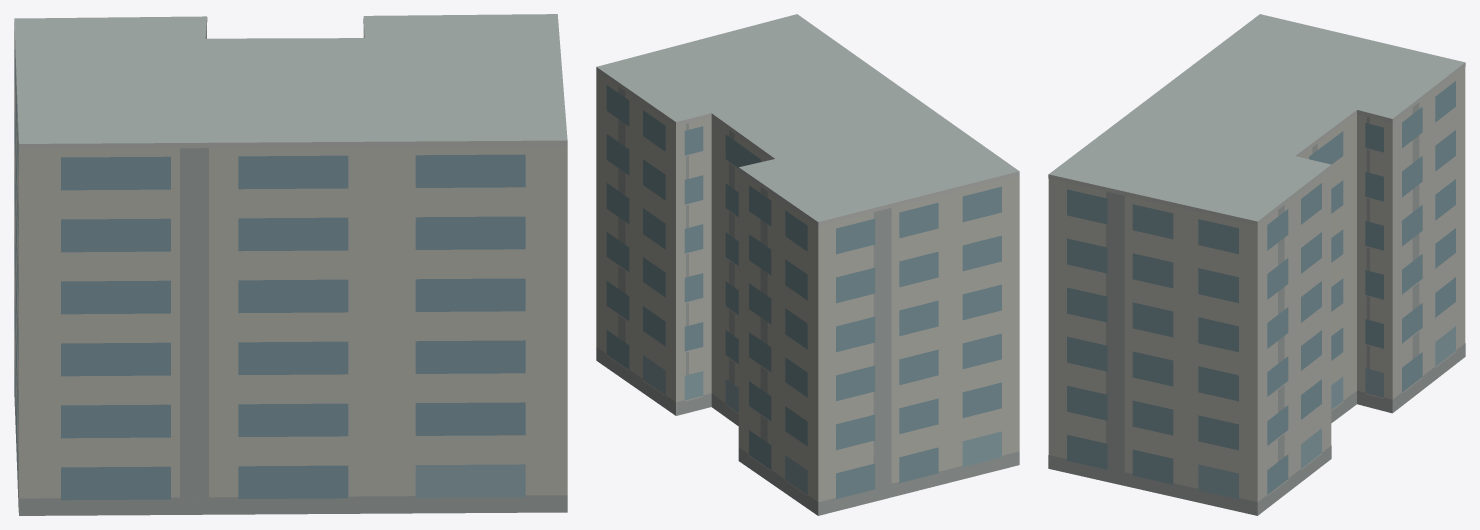
Rendered from survey-upis-32869814.glb.
3 renders of one model, left to right at view 1: azimuth 30°, elevation 25°; view 2: azimuth 150°, elevation 25°; view 3: azimuth 270°, elevation 25°, orthographic. The views are drawn at different scales.
Visible parts, largest first — view 1: survey-upis-32869814.tmp; view 2: survey-upis-32869814.tmp; view 3: survey-upis-32869814.tmp.
Part boxes in pixels (left/top/right/bottom): survey-upis-32869814.tmp: left=14, top=14, right=567, bottom=515; survey-upis-32869814.tmp: left=596, top=14, right=1019, bottom=515; survey-upis-32869814.tmp: left=1048, top=14, right=1465, bottom=515.
Size of the model in its own units: 25.79 by 17.05 by 21.89.
